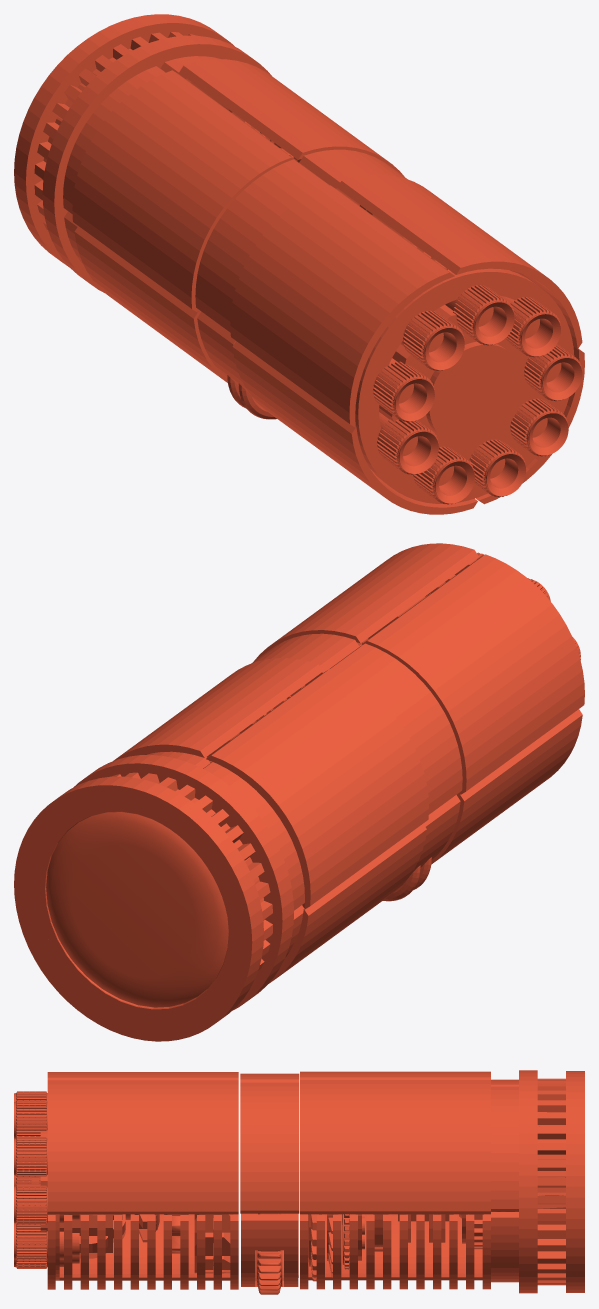
File: edhway.glb
The picture shows the model from 3 angles, top to bottom: view 1: azimuth 30°, elevation 25°; view 2: azimuth 150°, elevation 25°; view 3: azimuth 270°, elevation 25°; orthographic projection. The views are drawn at different scales.
Visible parts, largest first — view 1: gear_12, shell_bl_3, shell_bl_1, cap_1, shell_2, shell_br_3, shell_br_1, shell_tl_3, shell_tl_1, cap_bl, shell_tr_3; view 2: cap_1, shell_bl_1, shell_bl_3, shell_2, shell_br_1, shell_br_3, shell_tl_1, shell_tl_3, cap_bl; view 3: shell_br_3, shell_br_1, cap_1, shell_2, shell_tr_1, shell_tr_3, gear_12, shell_tl_1, cap_br, shell_tl_3, cap_tr, shell_bl_3 (+10 smaller).
Boxes of the visible parts, box(x1,y1,x2,y2) form: gear_12: box(355, 268, 582, 504); shell_bl_3: box(230, 185, 454, 427); shell_bl_1: box(72, 70, 296, 312); cap_1: box(14, 14, 274, 292); shell_2: box(195, 149, 406, 419); shell_br_3: box(337, 174, 582, 349); shell_br_1: box(179, 59, 404, 176); shell_tl_3: box(232, 341, 477, 514); shell_tl_1: box(74, 226, 227, 382); cap_bl: box(63, 66, 165, 213); shell_tr_3: box(476, 346, 584, 504); cap_1: box(14, 755, 293, 1041); shell_bl_1: box(206, 669, 428, 909); shell_bl_3: box(362, 554, 584, 794); shell_2: box(251, 633, 462, 901); shell_br_1: box(113, 658, 322, 760); shell_br_3: box(253, 543, 478, 661); shell_tl_1: box(268, 824, 426, 983); shell_tl_3: box(431, 709, 582, 864); cap_bl: box(203, 762, 304, 910); shell_br_3: box(47, 1080, 238, 1214); shell_br_1: box(300, 1080, 490, 1214); cap_1: box(519, 1070, 584, 1293); shell_2: box(240, 1073, 299, 1286); shell_tr_1: box(300, 1214, 490, 1289); shell_tr_3: box(47, 1215, 238, 1289); gear_12: box(14, 1091, 130, 1280); shell_tl_1: box(300, 1214, 482, 1280); cap_br: box(491, 1086, 518, 1211); shell_tl_3: box(56, 1214, 238, 1280); cap_tr: box(484, 1212, 518, 1282); shell_bl_3: box(47, 1072, 238, 1080).
Bounding box in the file's own units: 38.97 × 39.03 × 99.84.
